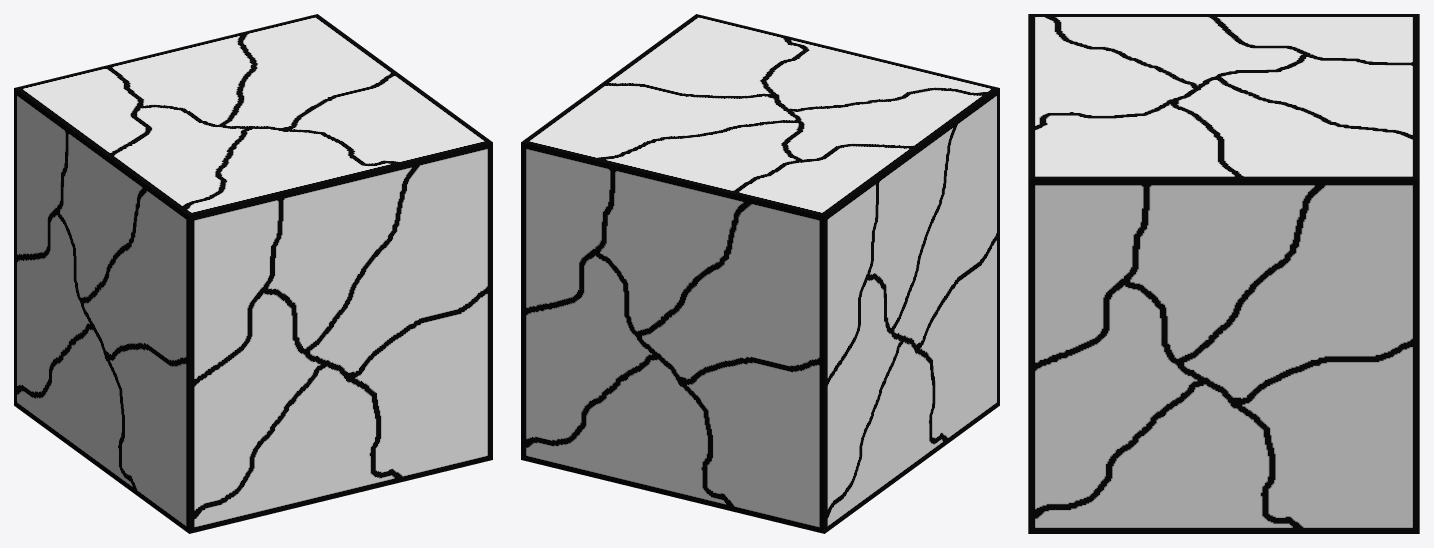
File: cubeBueno.FBX
3 views of the same model, side by side, from view 1: azimuth 30°, elevation 25°; view 2: azimuth 150°, elevation 25°; view 3: azimuth 270°, elevation 25° (orthographic). The views are drawn at different scales.
Parts seen in each view (by area): view 1: Box001; view 2: Box001; view 3: Box001.
Boxes of the visible parts, x1,y1,x2,y2 form: Box001: [14, 14, 492, 533]; Box001: [521, 14, 999, 533]; Box001: [1028, 14, 1419, 533].
Size of the model in its own units: 10 by 10 by 10.
7 materials, 1 textured.
